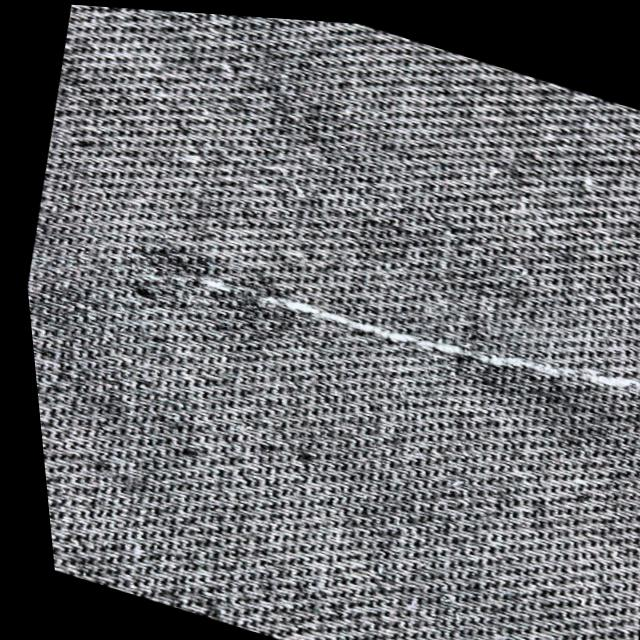Hole: (185, 271, 636, 380)
